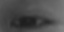RightEyeFatigue: (6, 8, 61, 32)
